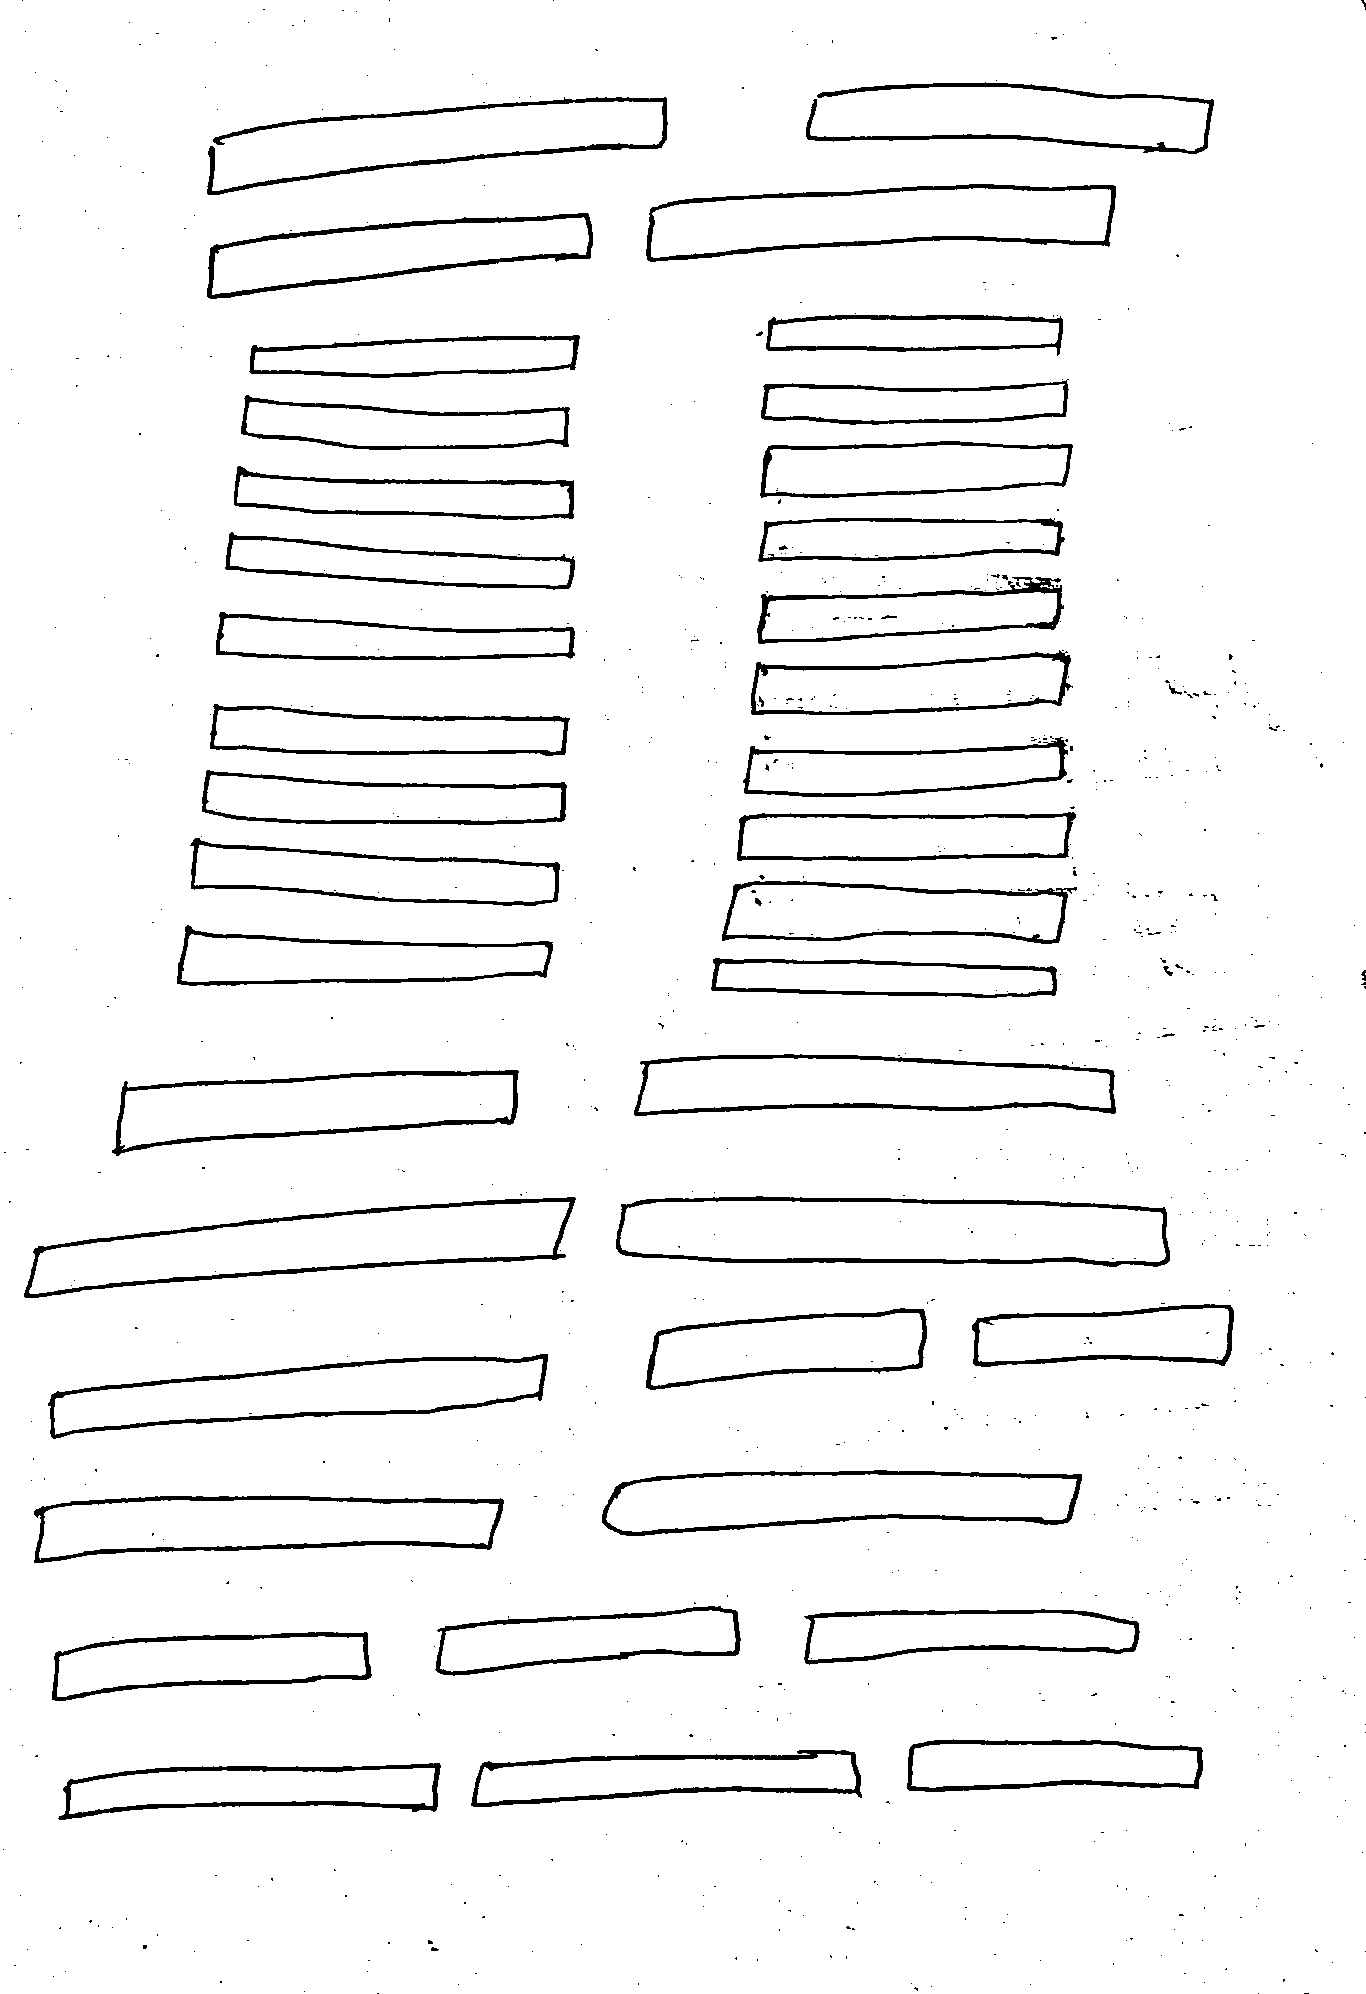Textbox: (21, 1192, 579, 1299), (201, 92, 672, 195), (45, 1352, 550, 1442), (612, 1192, 1174, 1267), (642, 182, 1119, 264), (108, 1067, 524, 1158), (204, 208, 597, 303), (30, 1488, 504, 1565), (597, 1468, 1084, 1539), (628, 1053, 1121, 1118), (803, 77, 1216, 152), (189, 838, 560, 911), (466, 1747, 866, 1812), (48, 1627, 373, 1703), (641, 1308, 928, 1392), (174, 927, 557, 989), (58, 1761, 442, 1821), (716, 877, 1071, 942), (747, 652, 1071, 723), (198, 765, 566, 827), (432, 1608, 744, 1677), (804, 1603, 1142, 1667), (211, 702, 569, 761), (232, 464, 577, 523), (214, 608, 577, 664), (224, 532, 577, 589), (739, 742, 1072, 802), (757, 439, 1074, 502), (754, 588, 1065, 650), (971, 1299, 1236, 1371), (736, 811, 1077, 865), (236, 397, 571, 452), (904, 1736, 1205, 1792), (707, 958, 1062, 1002), (244, 332, 582, 377), (759, 380, 1074, 427), (756, 518, 1065, 565), (762, 311, 1066, 355)
